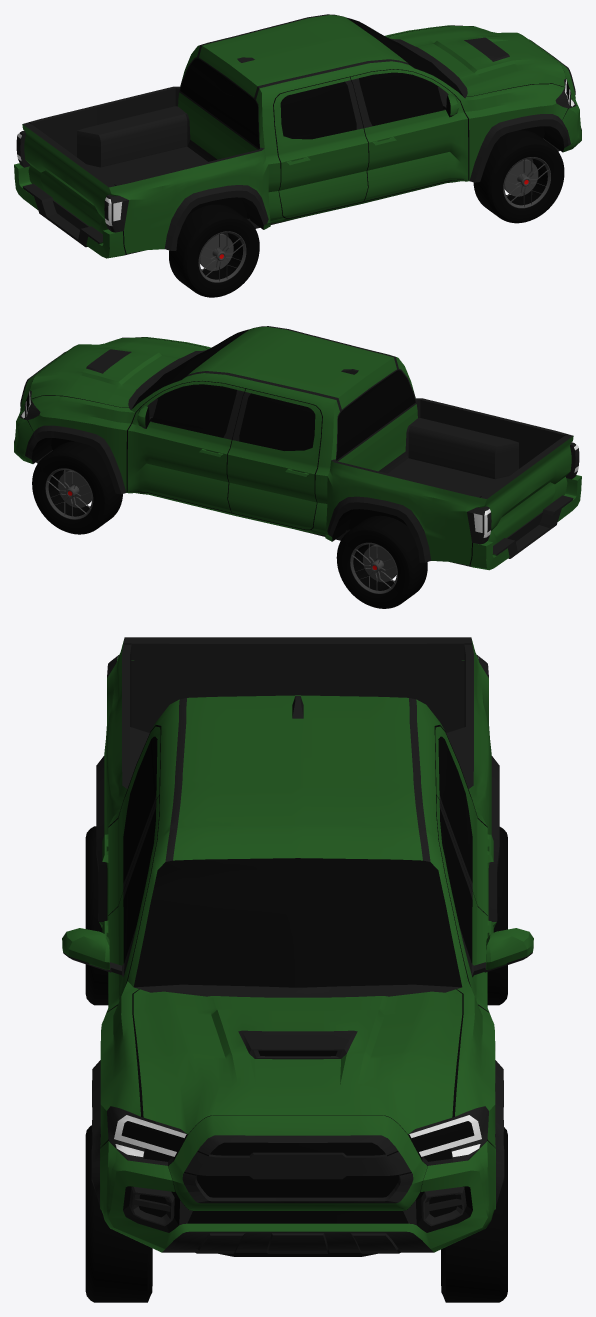
The model's file is toyota.fbx.
3 views of the same model, one above another, from view 1: azimuth 30°, elevation 25°; view 2: azimuth 150°, elevation 25°; view 3: azimuth 270°, elevation 25° (orthographic). The views are drawn at different scales.
Visible parts, largest first — view 1: Plane, Cylinder.003, Cylinder.002; view 2: Plane, Cylinder.001, Cylinder; view 3: Plane, Cylinder.002, Cylinder, Cylinder.003, Cylinder.001.
Part boxes in pixels (x1=…): Plane: x1=14, y1=14, x2=581, y2=258; Cylinder.003: x1=169, y1=204, x2=259, y2=297; Cylinder.002: x1=473, y1=130, x2=564, y2=223; Plane: x1=14, y1=326, x2=581, y2=570; Cylinder.001: x1=336, y1=515, x2=427, y2=608; Cylinder: x1=32, y1=441, x2=122, y2=534; Plane: x1=62, y1=637, x2=533, y2=1256; Cylinder.002: x1=85, y1=1125, x2=152, y2=1302; Cylinder: x1=441, y1=1127, x2=507, y2=1302; Cylinder.003: x1=85, y1=826, x2=108, y2=1005; Cylinder.001: x1=487, y1=827, x2=507, y2=1005.
Bounding box in the file's own units: 321 × 115 × 134.
